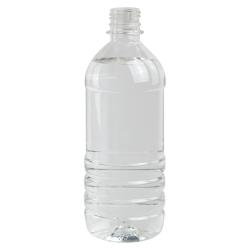bottle: (4, 1, 168, 243)
